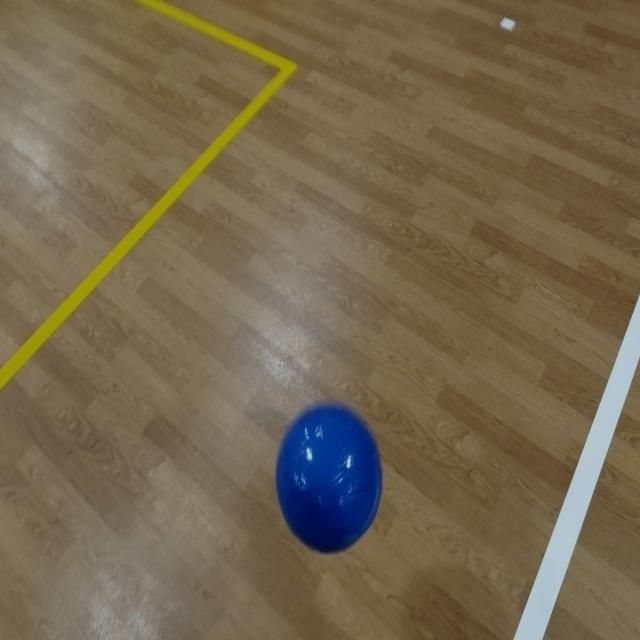blue_ball: (272, 400, 384, 555)
